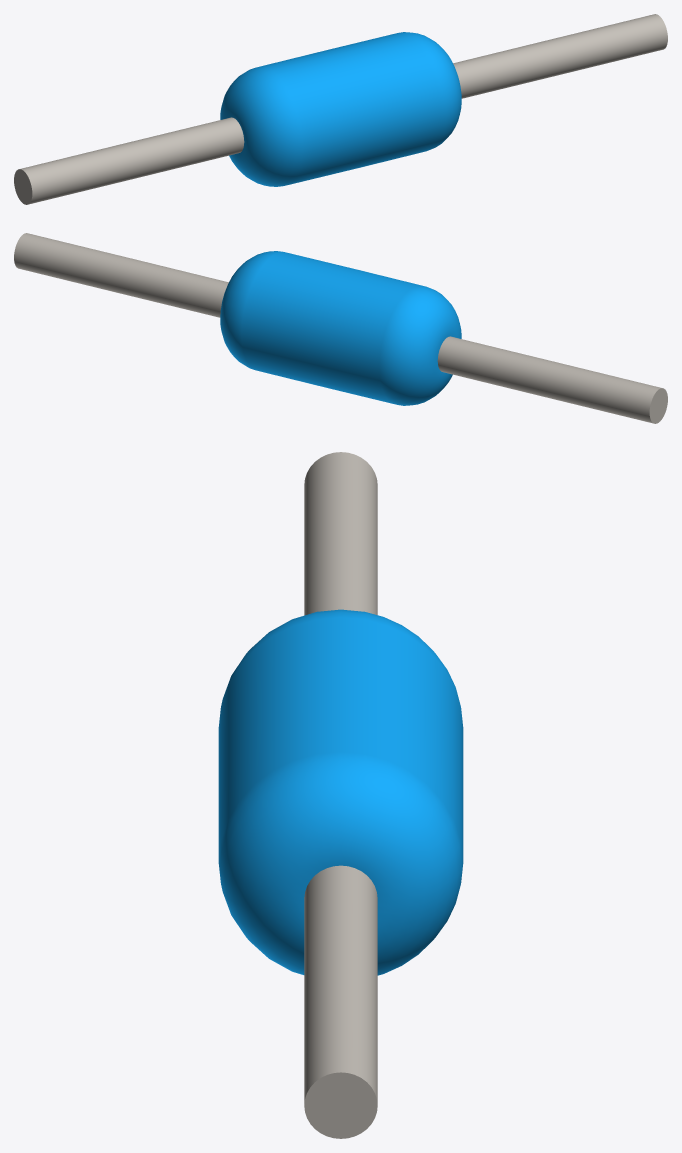
Rendered from Resistor.fbx.
The picture shows the model from 3 angles, top to bottom: view 1: azimuth 30°, elevation 25°; view 2: azimuth 150°, elevation 25°; view 3: azimuth 270°, elevation 25°; orthographic projection. The views are drawn at different scales.
Parts seen in each view (by area): view 1: Body1; view 2: Body1; view 3: Body1.
Part boxes in pixels (<box>): Body1: <box>14,14,667,204</box>; Body1: <box>14,233,667,423</box>; Body1: <box>218,452,463,1138</box>.
Size of the model in its own units: 18 by 3 by 3.
